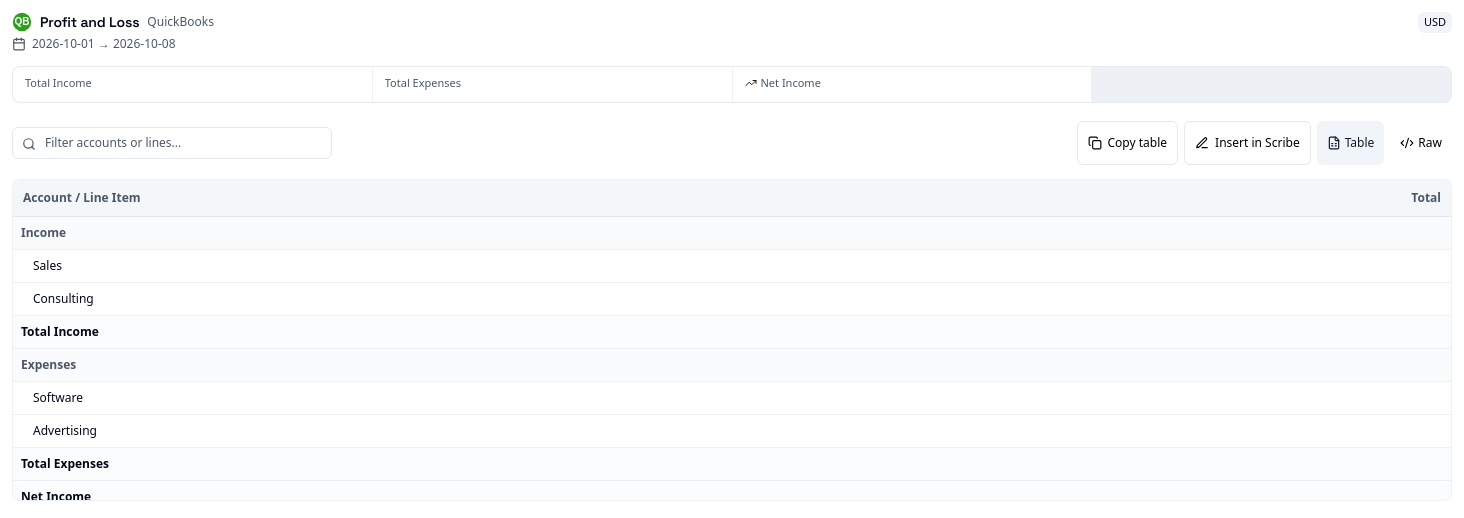
it: FinancialReportItemView › copies Markdown table when clicking copy button
Click the button "Copy table".
click(1127, 142)  # box [1076,120,1178,164]
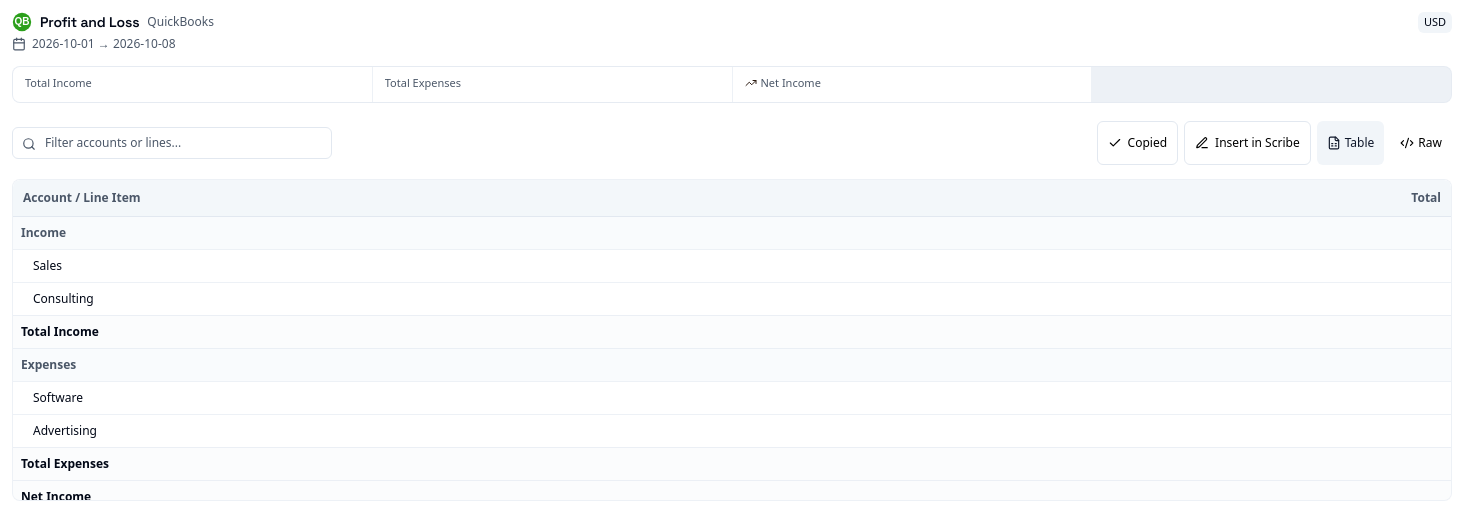
Expected: the text "Copied" is shown, [1128,134,1167,150]
